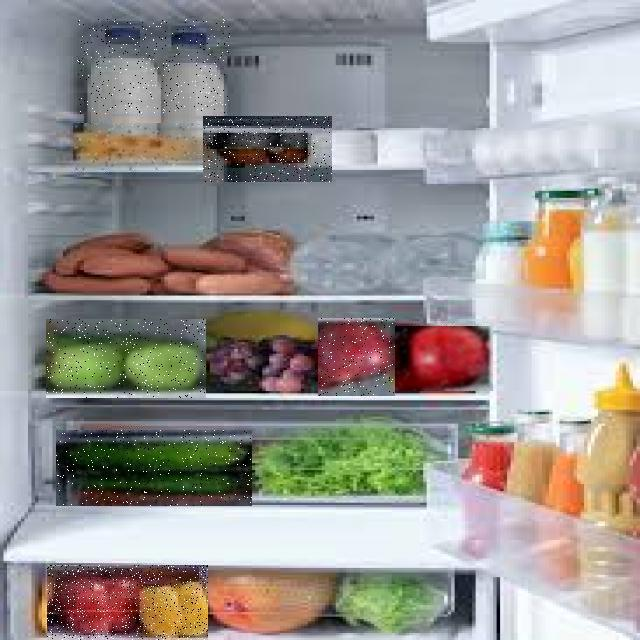Apple: (46, 319, 206, 398), (395, 326, 493, 391), (318, 318, 395, 396)
Bell Peppers: (47, 565, 208, 640)
Cheese: (74, 123, 200, 170)
Courgates: (56, 430, 252, 506)
Eggs: (203, 116, 332, 182)
Milk: (77, 19, 230, 114)
